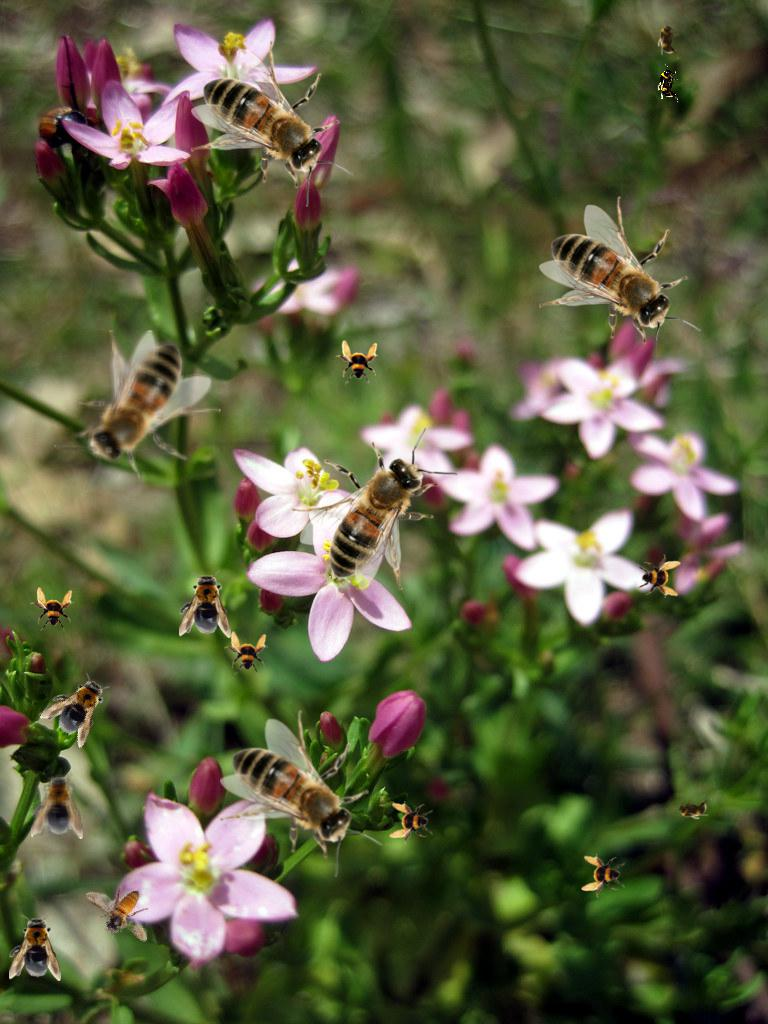Bee: (539, 196, 701, 363), (220, 710, 382, 877), (54, 330, 221, 492), (291, 428, 458, 590), (191, 40, 353, 207), (38, 663, 120, 749), (83, 870, 163, 957), (9, 913, 61, 981), (31, 771, 83, 839), (179, 570, 231, 638), (224, 631, 268, 675), (581, 854, 625, 898), (335, 340, 379, 384), (389, 801, 433, 845), (637, 554, 681, 598), (30, 587, 74, 631), (672, 798, 712, 820), (657, 63, 679, 103), (657, 19, 679, 59)
